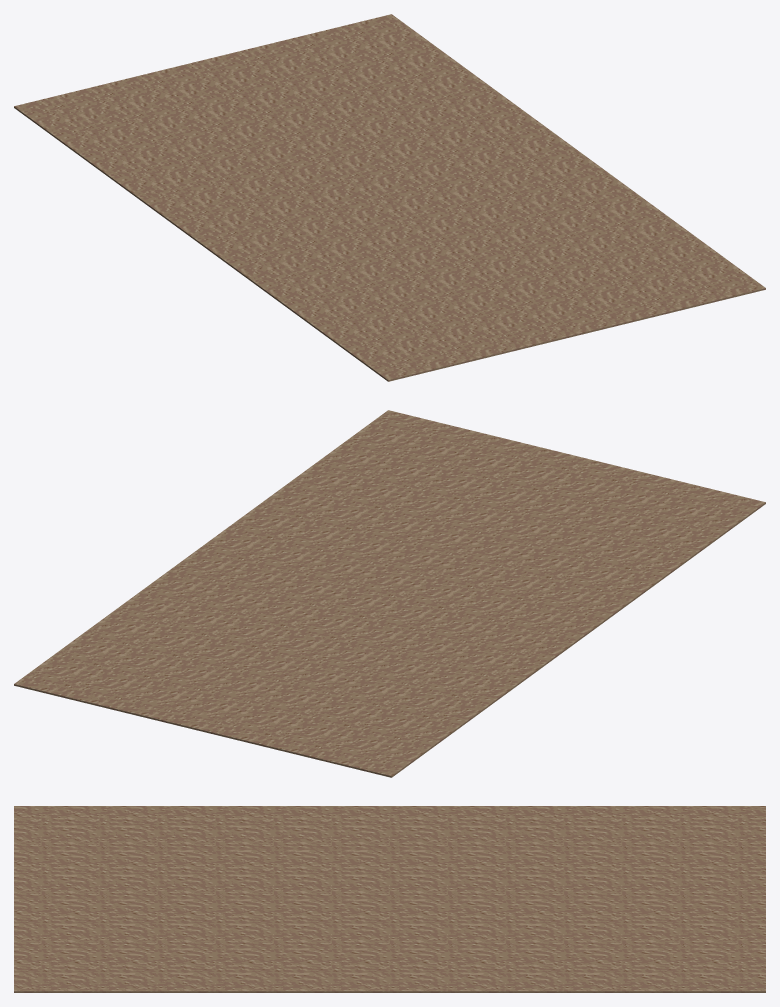
The model's file is ZigLev2.glb.
The picture shows the model from 3 angles, top to bottom: view 1: azimuth 30°, elevation 25°; view 2: azimuth 150°, elevation 25°; view 3: azimuth 270°, elevation 25°; orthographic projection.
Parts seen in each view (by area): view 1: ZigLev2; view 2: ZigLev2; view 3: ZigLev2.
Part boxes in pixels (x1,y1,x2,y2): ZigLev2: [14, 14, 765, 381]; ZigLev2: [14, 410, 765, 777]; ZigLev2: [14, 806, 765, 992].
Bounding box in the file's own units: 966 × 4 × 1658.
Materials: 1 (1 with a texture image).
